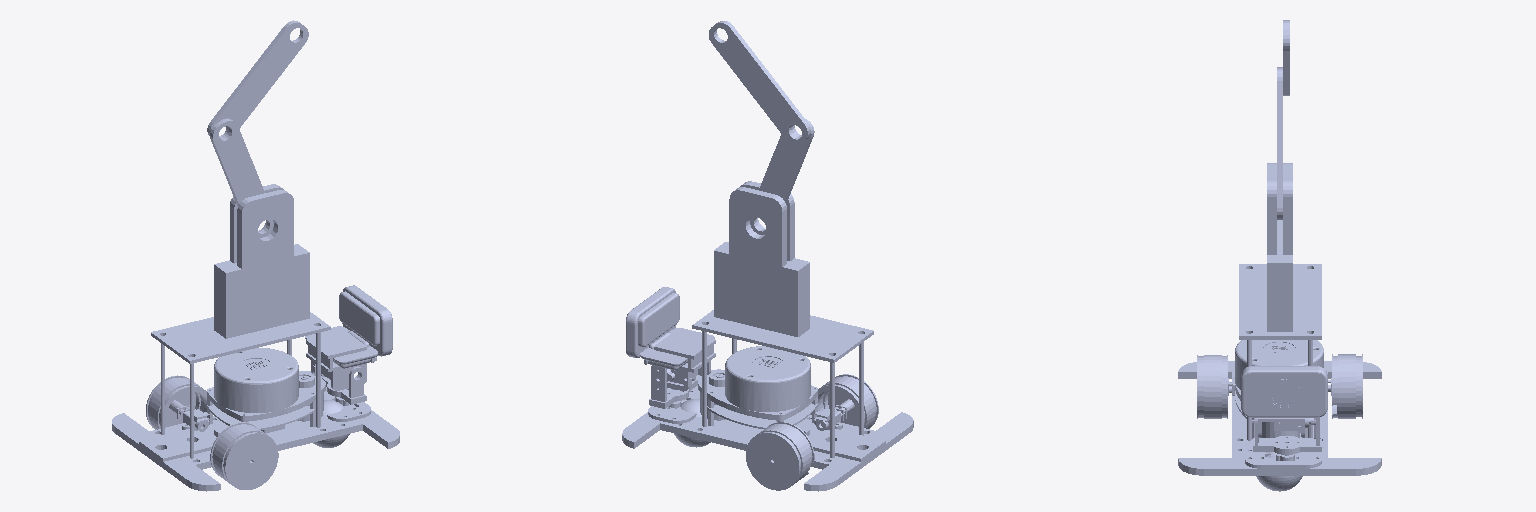
URDF robot description (tn13):
<?xml version="1.0" encoding="utf-8"?>
<!-- This URDF was automatically created by SolidWorks to URDF Exporter! Originally created by [author] ([email redacted]) 
     Commit Version: 1.6.0-4-g7f85cfe  Build Version: 1.6.7995.38578
     For more information, please see http://wiki.ros.org/sw_urdf_exporter -->
<robot
  name="tn13">
  <link
    name="base_link">
    <inertial>
      <origin
        xyz="0.0156580371525397 0.00076274544823618 0.0230564220306667"
        rpy="0 0 0" />
      <mass
        value="0.186980888212018" />
      <inertia
        ixx="0.000120392896514682"
        ixy="-2.16686088605617E-08"
        ixz="3.78496221692522E-08"
        iyy="0.000459130234544424"
        iyz="-1.3279962939993E-08"
        izz="0.000571283279528089" />
    </inertial>
    <visual>
      <origin
        xyz="0 0 0"
        rpy="0 0 0" />
      <geometry>
        <mesh
          filename="package://tn13/meshes/base_link.STL" />
      </geometry>
      <material
        name="">
        <color
          rgba="0.792156862745098 0.819607843137255 0.933333333333333 1" />
      </material>
    </visual>
    <collision>
      <origin
        xyz="0 0 0"
        rpy="0 0 0" />
      <geometry>
        <mesh
          filename="package://tn13/meshes/base_link.STL" />
      </geometry>
    </collision>
  </link>
  <link
    name="wheel_left_link">
    <inertial>
      <origin
        xyz="-5.2906758020721E-06 0.000207292329300446 0.00946324766819859"
        rpy="0 0 0" />
      <mass
        value="0.0184660869771915" />
      <inertia
        ixx="5.20536426827503E-06"
        ixy="-2.41345107864992E-10"
        ixz="1.2963737478275E-10"
        iyy="5.09539946964971E-06"
        iyz="-5.02729226335435E-08"
        izz="8.17437250117628E-06" />
    </inertial>
    <visual>
      <origin
        xyz="0 0 0"
        rpy="0 0 0" />
      <geometry>
        <mesh
          filename="package://tn13/meshes/wheel_left_link.STL" />
      </geometry>
      <material
        name="">
        <color
          rgba="0.792156862745098 0.819607843137255 0.933333333333333 1" />
      </material>
    </visual>
    <collision>
      <origin
        xyz="0 0 0"
        rpy="0 0 0" />
      <geometry>
        <mesh
          filename="package://tn13/meshes/wheel_left_link.STL" />
      </geometry>
    </collision>
  </link>
  <joint
    name="wheel_left_link_joint"
    type="continuous">
    <origin
      xyz="-0.040580469886906 0.0653327715750934 0.01093"
      rpy="1.5707963267949 0 0" />
    <parent
      link="base_link" />
    <child
      link="wheel_left_link" />
    <axis
      xyz="0.00382648066007597 0 0.99999267899608" />
    <dynamics
      damping="0.01"
      friction="0.01" />
  </joint>
  <link
    name="wheel_right_link">
    <inertial>
      <origin
        xyz="2.67592658975691E-07 5.91954136996975E-06 -0.00972425576539476"
        rpy="0 0 0" />
      <mass
        value="0.0188356493917418" />
      <inertia
        ixx="5.31218090839499E-06"
        ixy="2.35959609226924E-11"
        ixz="5.3724877534623E-12"
        iyy="5.31270181894033E-06"
        iyz="1.18847294358213E-10"
        izz="8.36894060910629E-06" />
    </inertial>
    <visual>
      <origin
        xyz="0 0 0"
        rpy="0 0 0" />
      <geometry>
        <mesh
          filename="package://tn13/meshes/wheel_right_link.STL" />
      </geometry>
      <material
        name="">
        <color
          rgba="0.792156862745098 0.819607843137255 0.933333333333333 1" />
      </material>
    </visual>
    <collision>
      <origin
        xyz="0 0 0"
        rpy="0 0 0" />
      <geometry>
        <mesh
          filename="package://tn13/meshes/wheel_right_link.STL" />
      </geometry>
    </collision>
  </link>
  <joint
    name="wheel_right_link_joint"
    type="continuous">
    <origin
      xyz="-0.0400804698869101 -0.0653346442335707 0.01093"
      rpy="1.5707963267949 0 0" />
    <parent
      link="base_link" />
    <child
      link="wheel_right_link" />
    <axis
      xyz="0.00382648066007597 0 0.99999267899608" />
    <dynamics
      damping="0.01"
      friction="0.01" />
  </joint>
  <link
    name="lidar_link">
    <inertial>
      <origin
        xyz="0.00676653011666362 -0.000207827566854599 -0.0224318722671598"
        rpy="0 0 0" />
      <mass
        value="1.33076913637071" />
      <inertia
        ixx="0.000614917940454091"
        ixy="-8.01984318976279E-07"
        ixz="0.00015824302591117"
        iyy="0.000960697335617224"
        iyz="-3.09162986587525E-06"
        izz="0.00109815200027136" />
    </inertial>
    <visual>
      <origin
        xyz="0 0 0"
        rpy="0 0 0" />
      <geometry>
        <mesh
          filename="package://tn13/meshes/lidar_link.STL" />
      </geometry>
      <material
        name="">
        <color
          rgba="0.792156862745098 0.819607843137255 0.933333333333333 1" />
      </material>
    </visual>
    <collision>
      <origin
        xyz="0 0 0"
        rpy="0 0 0" />
      <geometry>
        <mesh
          filename="package://tn13/meshes/lidar_link.STL" />
      </geometry>
    </collision>
  </link>
  <joint
    name="lidar_link_joint"
    type="fixed">
    <origin
      xyz="0.00166720638818119 -0.000284750904605523 0.06363"
      rpy="0 0 0" />
    <parent
      link="base_link" />
    <child
      link="lidar_link" />
    <axis
      xyz="0 0 0" />
  </joint>
  <link
    name="camera_link">
    <inertial>
      <origin
        xyz="-0.0147044597232891 5.41606455101151E-08 -0.005869470677028"
        rpy="0 0 0" />
      <mass
        value="0.054335270667199" />
      <inertia
        ixx="2.2633421635547E-05"
        ixy="-5.40721678479663E-12"
        ixz="1.45380028902577E-07"
        iyy="7.00114916721175E-06"
        iyz="1.02807140331832E-11"
        izz="2.03635502398026E-05" />
    </inertial>
    <visual>
      <origin
        xyz="0 0 0"
        rpy="0 0 0" />
      <geometry>
        <mesh
          filename="package://tn13/meshes/camera_link.STL" />
      </geometry>
      <material
        name="">
        <color
          rgba="0.792156862745098 0.819607843137255 0.933333333333333 1" />
      </material>
    </visual>
    <collision>
      <origin
        xyz="0 0 0"
        rpy="0 0 0" />
      <geometry>
        <mesh
          filename="package://tn13/meshes/camera_link.STL" />
      </geometry>
    </collision>
  </link>
  <joint
    name="camera_link_joint"
    type="fixed">
    <origin
      xyz="0.115084054266437 0.00349351556494998 0.0765883580685939"
      rpy="2.28282302406047E-05 0.00419538228067226 -0.000255025201659847" />
    <parent
      link="base_link" />
    <child
      link="camera_link" />
    <axis
      xyz="0 0 0" />
  </joint>
  <link
    name="imu_link">
    <inertial>
      <origin
        xyz="-2.77555756156289E-17 6.93889390390723E-18 -0.0015"
        rpy="0 0 0" />
      <mass
        value="0.00552876110196154" />
      <inertia
        ixx="8.01201327713732E-07"
        ixy="-1.29986205481237E-22"
        ixz="-3.53870194733746E-39"
        iyy="1.14517257565508E-06"
        iyz="5.25238777845289E-24"
        izz="1.93808076171587E-06" />
    </inertial>
    <visual>
      <origin
        xyz="0 0 0"
        rpy="0 0 0" />
      <geometry>
        <mesh
          filename="package://tn13/meshes/imu_link.STL" />
      </geometry>
      <material
        name="">
        <color
          rgba="0.792156862745098 0.819607843137255 0.933333333333333 1" />
      </material>
    </visual>
    <collision>
      <origin
        xyz="0 0 0"
        rpy="0 0 0" />
      <geometry>
        <mesh
          filename="package://tn13/meshes/imu_link.STL" />
      </geometry>
    </collision>
  </link>
  <joint
    name="imu_joint"
    type="fixed">
    <origin
      xyz="-0.0735304698869101 0.000450712706397433 0.00893000000000001"
      rpy="0 0 0" />
    <parent
      link="base_link" />
    <child
      link="imu_link" />
    <axis
      xyz="0 0 0" />
  </joint>
  <link
    name="trutaymay_link">
    <inertial>
      <origin
        xyz="-0.000561626440149815 4.85853147557044E-05 0.0480342292105829"
        rpy="0 0 0" />
      <mass
        value="0.133680310101314" />
      <inertia
        ixx="0.000142407646860895"
        ixy="-2.238937030027E-08"
        ixz="1.88854868092082E-07"
        iyy="0.00019612798037322"
        iyz="-3.17693751547738E-08"
        izz="6.35632268401286E-05" />
    </inertial>
    <visual>
      <origin
        xyz="0 0 0"
        rpy="0 0 0" />
      <geometry>
        <mesh
          filename="package://tn13/meshes/trutaymay_link.STL" />
      </geometry>
      <material
        name="">
        <color
          rgba="0.792156862745098 0.819607843137255 0.933333333333333 1" />
      </material>
    </visual>
    <collision>
      <origin
        xyz="0 0 0"
        rpy="0 0 0" />
      <geometry>
        <mesh
          filename="package://tn13/meshes/trutaymay_link.STL" />
      </geometry>
    </collision>
  </link>
  <joint
    name="trutaymay_link_joint"
    type="fixed">
    <origin
      xyz="0.0077106770451147 -5.50440355985213E-05 0.09893"
      rpy="0 0 0" />
    <parent
      link="base_link" />
    <child
      link="trutaymay_link" />
    <axis
      xyz="0 0 0" />
  </joint>
  <link
    name="khau1_link">
    <inertial>
      <origin
        xyz="-0.0179903447502425 0.0467189673033084 0.00250000000000004"
        rpy="0 0 0" />
      <mass
        value="0.0132171399353069" />
      <inertia
        ixx="1.15876049121091E-05"
        ixy="4.17427930050841E-06"
        ixz="5.24844575541965E-24"
        iyy="2.35486991829859E-06"
        iyz="-1.02196109148095E-22"
        izz="1.38874034140106E-05" />
    </inertial>
    <visual>
      <origin
        xyz="0 0 0"
        rpy="0 0 0" />
      <geometry>
        <mesh
          filename="package://tn13/meshes/khau1_link.STL" />
      </geometry>
      <material
        name="">
        <color
          rgba="0.792156862745098 0.819607843137255 0.933333333333333 1" />
      </material>
    </visual>
    <collision>
      <origin
        xyz="0 0 0"
        rpy="0 0 0" />
      <geometry>
        <mesh
          filename="package://tn13/meshes/khau1_link.STL" />
      </geometry>
    </collision>
  </link>
  <joint
    name="khau1_link_joint"
    type="revolute">
    <origin
      xyz="-0.00059275 0.0025541 0.09"
      rpy="1.5708 0 0" />
    <parent
      link="trutaymay_link" />
    <child
      link="khau1_link" />
    <axis
      xyz="0 0 1" />
    <limit
      lower="-0.5"
      upper="0.5"
      effort="1"
      velocity="1" />
    <dynamics
      damping="0.01"
      friction="0.01" />
  </joint>
  <link
    name="khau2_link">
    <inertial>
      <origin
        xyz="0.0352022113259505 0.0354188914555961 -0.0025"
        rpy="0 0 0" />
      <mass
        value="0.0132171399353069" />
      <inertia
        ixx="7.00942875010884E-06"
        ixy="-6.22366435205776E-06"
        ixz="-3.83201680629472E-23"
        iyy="6.93304608029887E-06"
        iyz="-4.46997230278365E-23"
        izz="1.38874034140106E-05" />
    </inertial>
    <visual>
      <origin
        xyz="0 0 0"
        rpy="0 0 0" />
      <geometry>
        <mesh
          filename="package://tn13/meshes/khau2_link.STL" />
      </geometry>
      <material
        name="">
        <color
          rgba="0.792156862745098 0.819607843137255 0.933333333333333 1" />
      </material>
    </visual>
    <collision>
      <origin
        xyz="0 0 0"
        rpy="0 0 0" />
      <geometry>
        <mesh
          filename="package://tn13/meshes/khau2_link.STL" />
      </geometry>
    </collision>
  </link>
  <joint
    name="khau2_link_joint"
    type="revolute">
    <origin
      xyz="-0.035935 0.09332 0"
      rpy="0 0 0" />
    <parent
      link="khau1_link" />
    <child
      link="khau2_link" />
    <axis
      xyz="0 0 1" />
    <limit
      lower="-0.5"
      upper="0.5"
      effort="1"
      velocity="1" />
    <dynamics
      damping="0.01"
      friction="0.01" />
  </joint>
  <link
    name="caster_link">
    <inertial>
      <origin
        xyz="0 -6.93889390390723E-18 -1.38777878078145E-17"
        rpy="0 0 0" />
      <mass
        value="0.0335103216382911" />
      <inertia
        ixx="5.36165146212658E-06"
        ixy="0"
        ixz="0"
        iyy="5.36165146212658E-06"
        iyz="0"
        izz="5.36165146212658E-06" />
    </inertial>
    <visual>
      <origin
        xyz="0 0 0"
        rpy="0 0 0" />
      <geometry>
        <mesh
          filename="package://tn13/meshes/caster_link.STL" />
      </geometry>
      <material
        name="">
        <color
          rgba="0.792156862745098 0.819607843137255 0.933333333333333 1" />
      </material>
    </visual>
    <collision>
      <origin
        xyz="0 0 0"
        rpy="0 0 0" />
      <geometry>
        <mesh
          filename="package://tn13/meshes/caster_link.STL" />
      </geometry>
    </collision>
  </link>
  <joint
    name="caster_link_joint"
    type="continuous">
    <origin
      xyz="0.069677 -0.00034037 -0.0064332"
      rpy="0 0 0" />
    <parent
      link="base_link" />
    <child
      link="caster_link" />
    <axis
      xyz="1 0 0" />
    <limit
      effort="1"
      velocity="1" />
    <dynamics
      damping="0.01"
      friction="0.01" />
  </joint>
  
  
  
  
  
  
  
   
<gazebo reference="imu_link">
  <sensor name="imu_sensor" type="imu">
    <always_on>true</always_on>
    <update_rate>100</update_rate>
    <visualize>true</visualize> 
    <scale>0.1 0.1 0.1</scale>
    <plugin filename="libgazebo_ros_imu_sensor.so" name="imu_plugin">
      <topicName>/imu</topicName>
      <bodyName>imu_link</bodyName>
      <frameName>imu_link</frameName>
      <gaussianNoise>0.01</gaussianNoise>
      <xyzOffset>0 0 0</xyzOffset>
      <rpyOffset>0 0 0</rpyOffset> 
      <initialOrientationAsReference>false</initialOrientationAsReference>
    </plugin>
    <pose>0 0 0 0 1.5708 0</pose> 
  </sensor>
  </gazebo>
  
  
  
  
  
  
  
  
  
  
  
  



 <gazebo>
  <plugin name="differential_drive_controller" filename="libgazebo_ros_diff_drive.so">
    <updateRate>100</updateRate>
    <leftJoint>wheel_left_link_joint</leftJoint>
    <rightJoint>wheel_right_link_joint</rightJoint>
    
    <wheelSeparation>0.5380</wheelSeparation>
    <wheelDiameter>0.2410</wheelDiameter>
    <wheelAcceleration>0.5</wheelAcceleration>
    <wheelTorque>20</wheelTorque>
    <commandTopic>cmd_vel</commandTopic>
    <odometryTopic>odom</odometryTopic>
    <odometryFrame>odom</odometryFrame>
    <robotBaseFrame>base_link</robotBaseFrame>
    <odometrySource>1</odometrySource>
    <publishWheelTF>true</publishWheelTF>
    <publishOdom>true</publishOdom>
        <publishWheelJointState>true</publishWheelJointState>
        
    <legacyMode>false</legacyMode>
  </plugin>
</gazebo>








<gazebo reference="lidar_link">
  <sensor type="ray" name="lidar_sensor">
    <pose>0 0 0 0 0 0</pose>
    <visualize>true</visualize>
    <update_rate>30</update_rate>
    <ray>
      <scan>
        <horizontal>
          <samples>720</samples>
          <resolution>1</resolution>
          <min_angle>-3.1416</min_angle>  
          <max_angle>3.1416</max_angle>   
        </horizontal>
      </scan>
      <range>
        <min>0.1</min>
        <max>30.0</max>
        <resolution>0.01</resolution>
      </range>
      <noise>
        <type>gaussian</type>
        <mean>0.0</mean>
        <stddev>0.01</stddev>
      </noise>
    </ray>
    <plugin name="gazebo_ros_laser" filename="libgazebo_ros_laser.so">
      <topicName>/scan</topicName>
      <frameName>lidar_link</frameName>
    </plugin>
  </sensor>
</gazebo>
<gazebo reference="camera_link">
  <sensor type="camera" name="camera1">
    <update_rate>30.0</update_rate>
    <camera name="head">
      <horizontal_fov>1.3962634</horizontal_fov>
      <image>
        <width>800</width>
        <height>800</height>
        <format>R8G8B8</format>
      </image>
      <clip>
        <near>0.02</near>
        <far>300</far>
      </clip>
      <noise>
        <type>gaussian</type>
        <mean>0.0</mean>
        <stddev>0.007</stddev>
      </noise>
    </camera>
    <plugin name="camera_controller" filename="libgazebo_ros_camera.so">
      <alwaysOn>true</alwaysOn>
      <updateRate>0.0</updateRate>
      <cameraName>rrbot/camera1</cameraName>
      <imageTopicName>image_raw</imageTopicName>
      <cameraInfoTopicName>camera_info</cameraInfoTopicName>
      <frameName>camera_link</frameName>  
      <hackBaseline>0.07</hackBaseline>
      <distortionK1>0.0</distortionK1>
      <distortionK2>0.0</distortionK2>
      <distortionK3>0.0</distortionK3>
      <distortionT1>0.0</distortionT1>
      <distortionT2>0.0</distortionT2>
    </plugin>
  </sensor>
</gazebo>


	<gazebo>
    <plugin name="gazebo_ros_control" filename="libgazebo_ros_control.so"/>
</gazebo>




<transmission name="khau1_trans">
    <type>transmission_interface/SimpleTransmission</type>
    <joint name="khau1_link_joint">
        <hardwareInterface>hardware_interface/EffortJointInterface</hardwareInterface>
    </joint>
    <actuator name="khau1_actuator">
        <hardwareInterface>hardware_interface/EffortJointInterface</hardwareInterface>
        <mechanicalReduction>1.0</mechanicalReduction>
    </actuator>
</transmission>

<transmission name="khau2_trans">
    <type>transmission_interface/SimpleTransmission</type>
    <joint name="khau2_link_joint">
        <hardwareInterface>hardware_interface/EffortJointInterface</hardwareInterface>
    </joint>
    <actuator name="khau2_actuator">
        <hardwareInterface>hardware_interface/EffortJointInterface</hardwareInterface>
        <mechanicalReduction>1.0</mechanicalReduction>
    </actuator>
</transmission>
  
  
  
  
  
  
  
  
  
  
  
  
  
  
  
  
  
  
  
  
  
  
</robot>

--- What the picture shows (computed from the rendered views, not written in the file) ---
The picture shows the robot from 3 angles, left to right: view 1: azimuth 30°, elevation 25°; view 2: azimuth 150°, elevation 25°; view 3: azimuth 270°, elevation 25°; orthographic projection.
Robot: tn13 — 10 links, 9 joints (2 revolute, 3 continuous, 4 fixed); root link base_link; default pose: every joint at zero.
Links seen in each view (by area): view 1: base_link, trutaymay_link, lidar_link, wheel_right_link, khau2_link, camera_link, khau1_link, wheel_left_link, imu_link; view 2: base_link, trutaymay_link, lidar_link, khau2_link, wheel_left_link, camera_link, khau1_link, wheel_right_link, imu_link; view 3: base_link, camera_link, trutaymay_link, lidar_link, wheel_left_link, wheel_right_link, khau1_link, caster_link, khau2_link.
Boxes of the visible links, x1,y1,x2,y2 form: base_link: (112,312,399,491); trutaymay_link: (214,184,309,338); lidar_link: (207,348,325,433); wheel_right_link: (210,422,278,489); khau2_link: (207,20,308,138); camera_link: (305,285,392,368); khau1_link: (210,118,273,237); wheel_left_link: (146,375,206,429); imu_link: (139,429,212,461); base_link: (622,310,913,491); trutaymay_link: (714,181,809,336); lidar_link: (698,346,817,428); khau2_link: (709,21,810,144); wheel_left_link: (746,422,814,490); camera_link: (626,287,714,370); khau1_link: (750,119,814,234); wheel_right_link: (811,374,878,428); imu_link: (812,429,885,461); base_link: (1178,264,1381,475); camera_link: (1241,366,1327,417); trutaymay_link: (1267,163,1292,331); lidar_link: (1235,340,1323,438); wheel_left_link: (1332,354,1362,418); wheel_right_link: (1197,355,1227,418); khau1_link: (1277,67,1282,219); caster_link: (1256,452,1302,491); khau2_link: (1283,20,1289,95).
Size in the robot's own frame: 0.214 by 0.16 by 0.3913 metres.
10 mesh visuals loaded from 10 distinct referenced files (10 binary STL).
